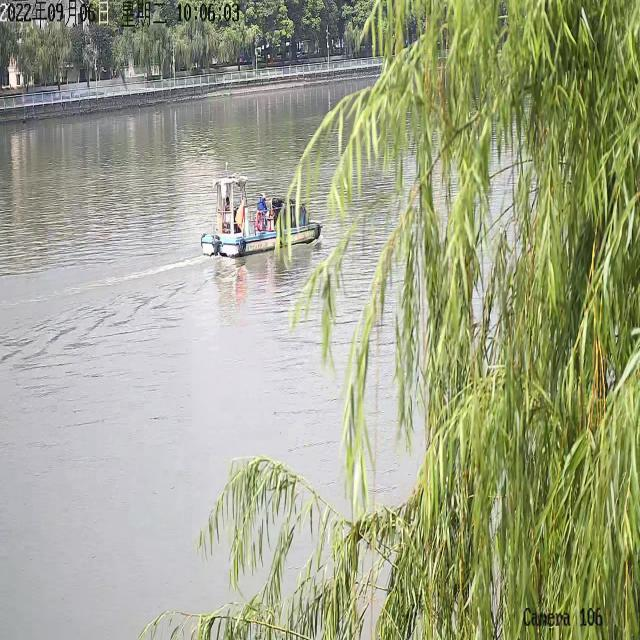ship: (200, 174, 320, 258)
